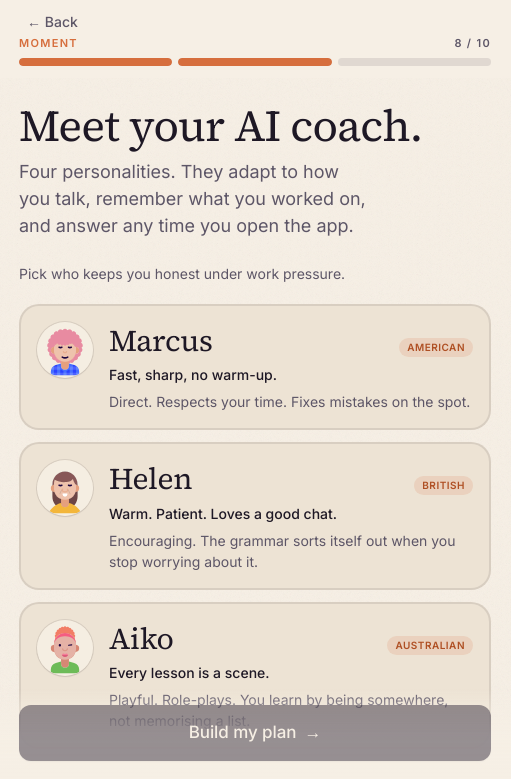
Test: Q8Coach › Build my plan CTA enables after selection
The width and height of the screenshot is (511, 779).
Click the radio button labelled "Aiko": (255, 675) [19,602,491,749]
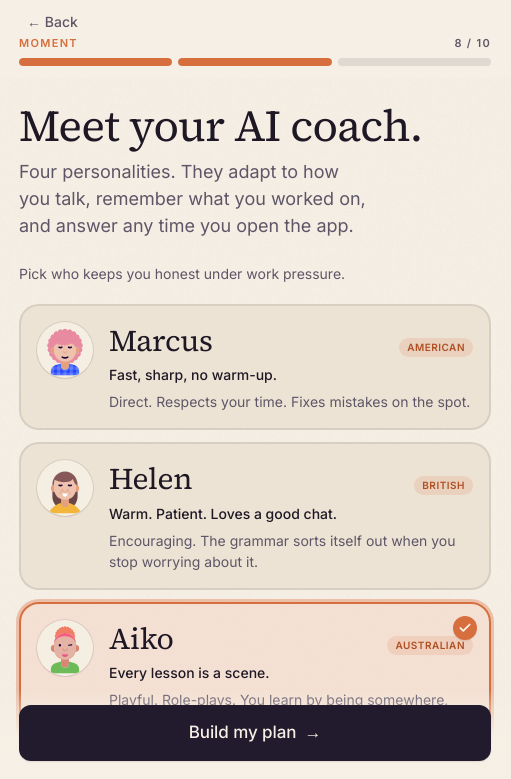
Now the button "Build my plan →" is enabled, box [19,705,491,761]
